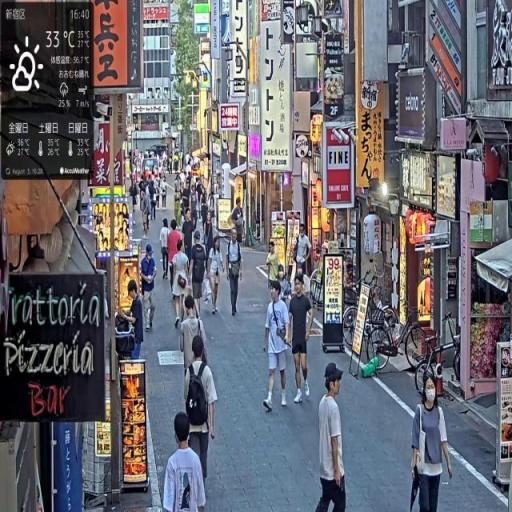person: (410, 374, 455, 512), (185, 336, 219, 495), (317, 362, 347, 512), (163, 412, 208, 512), (264, 281, 293, 414), (288, 273, 315, 407), (179, 296, 209, 384), (226, 226, 245, 320), (190, 230, 209, 315), (207, 232, 226, 317), (141, 243, 158, 334), (161, 218, 172, 283)
